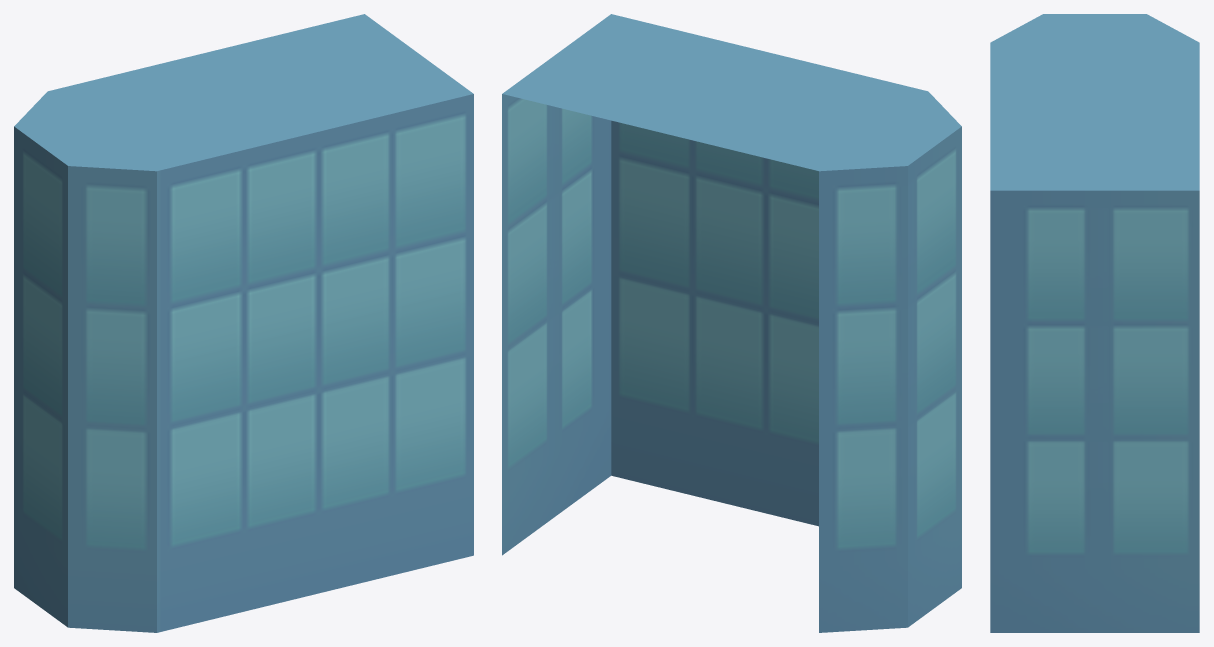
File: Common_Building_09.fbx
3 views of the same model, side by side, from view 1: azimuth 30°, elevation 25°; view 2: azimuth 150°, elevation 25°; view 3: azimuth 270°, elevation 25° (orthographic). The views are drawn at different scales.
Visible parts, largest first — view 1: Common_Building_09; view 2: Common_Building_09; view 3: Common_Building_09.
Part boxes in pixels (left/top/right/bottom): Common_Building_09: left=14, top=14, right=473, bottom=632; Common_Building_09: left=502, top=14, right=961, bottom=632; Common_Building_09: left=990, top=14, right=1199, bottom=632.
Bounding box in the file's own units: 3960 × 4620 × 1980.
